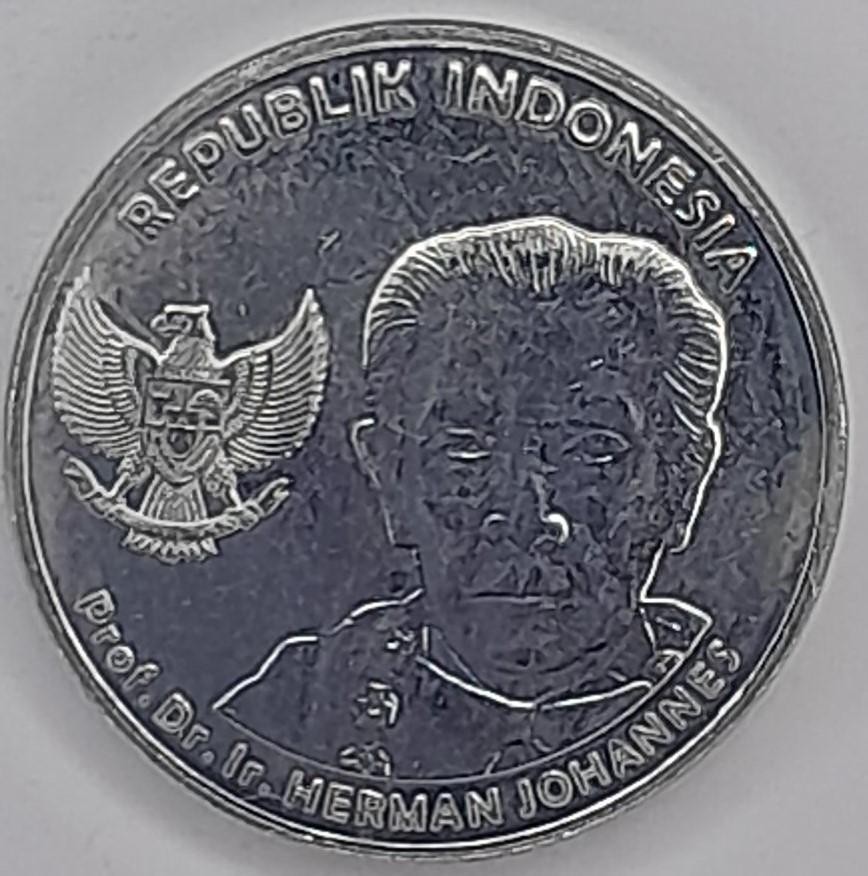coin_100_e2016: (0, 11, 854, 863)
